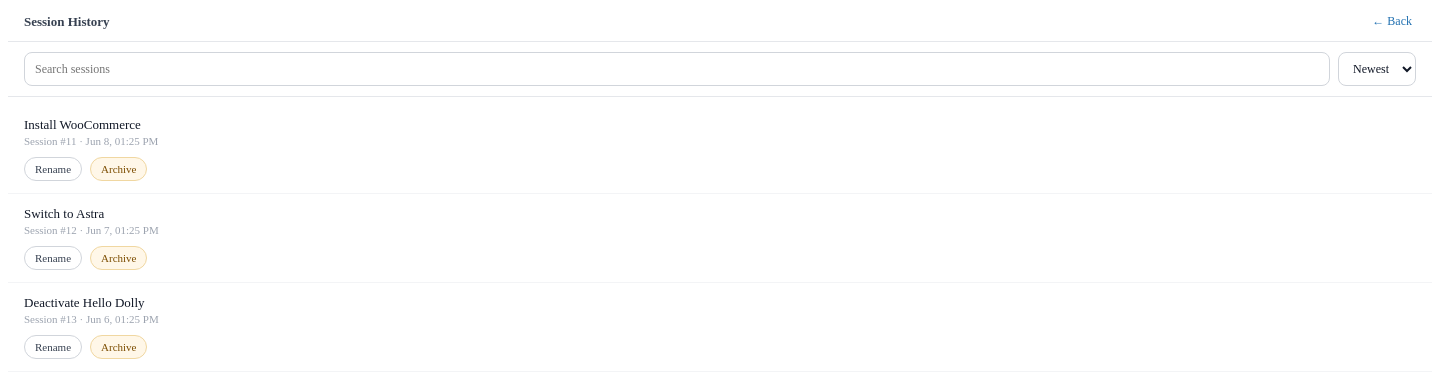
ConversationManager › archives a session and removes it from the current history list
expect the text "Install WooCommerce" is shown: met, box left=24, top=117, right=141, bottom=132
Click the button "Archive" below "Session #11 · Jun 8, 01:25 PM".
click(119, 169)  # box left=90, top=157, right=147, bottom=181
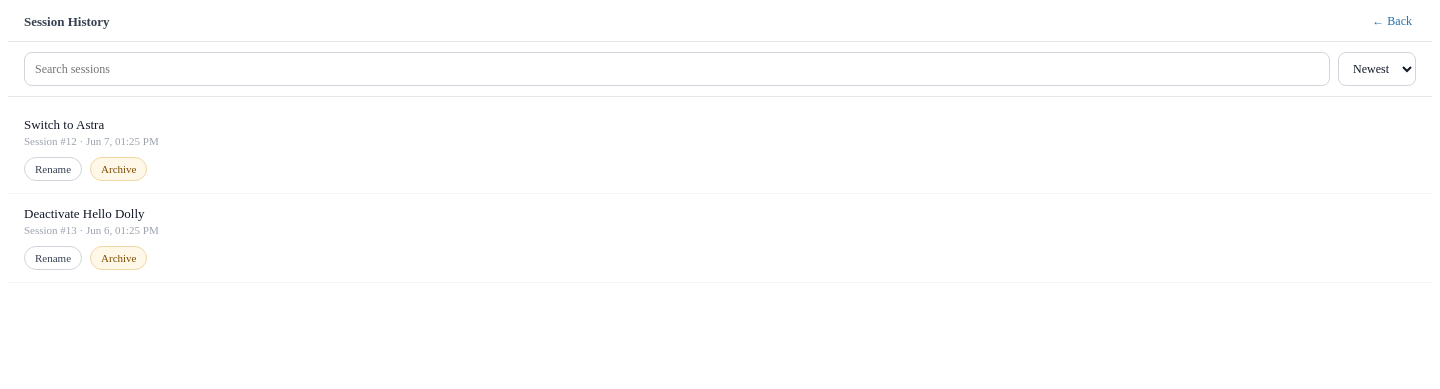
expect the text "Install WooCommerce" is gone: met
